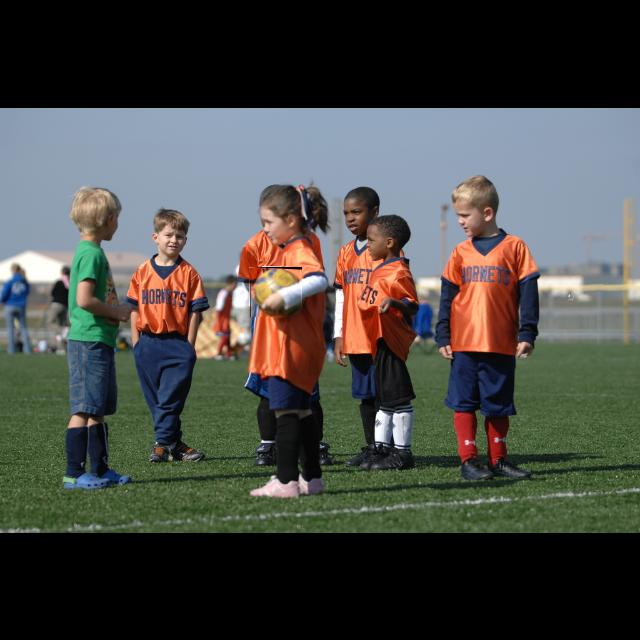Football: (250, 267, 302, 317)
